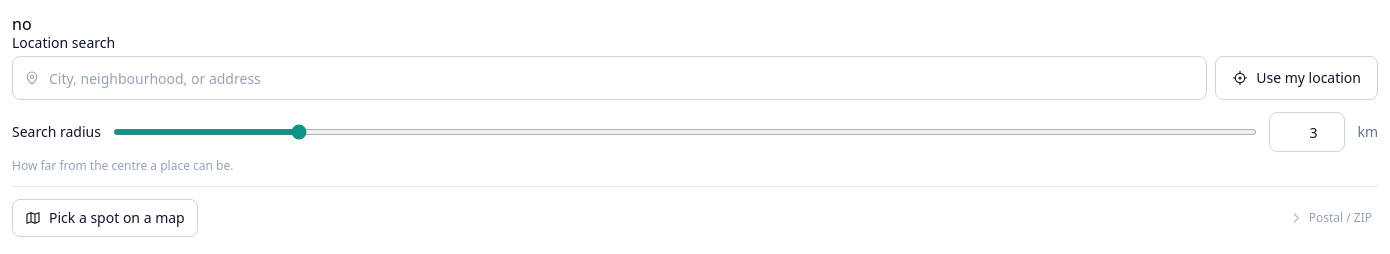
<LocationField /> — how much the browser's fix can be trusted › accepts a street-level fix and keeps its coordinates
The image size is (1390, 254).
Click the button "Use my location". click: click(1297, 78)
box: [1215,56,1378,100]
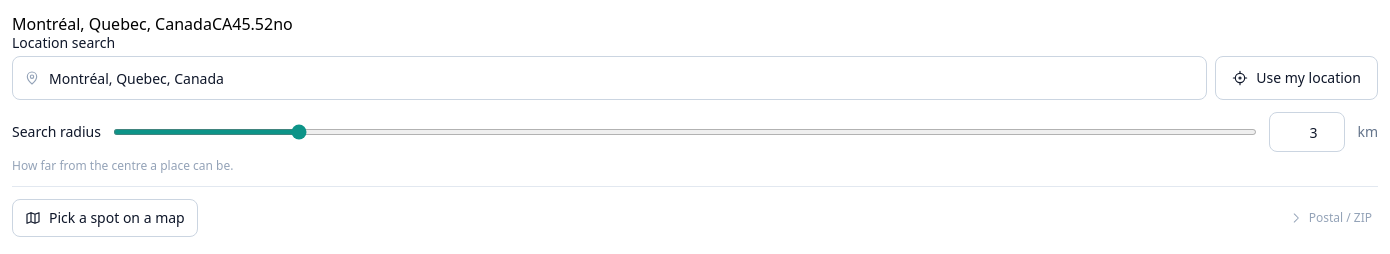
Result: the text with test id "query" reads "Montréal, Quebec, Canada" at [12,13,212,35]
